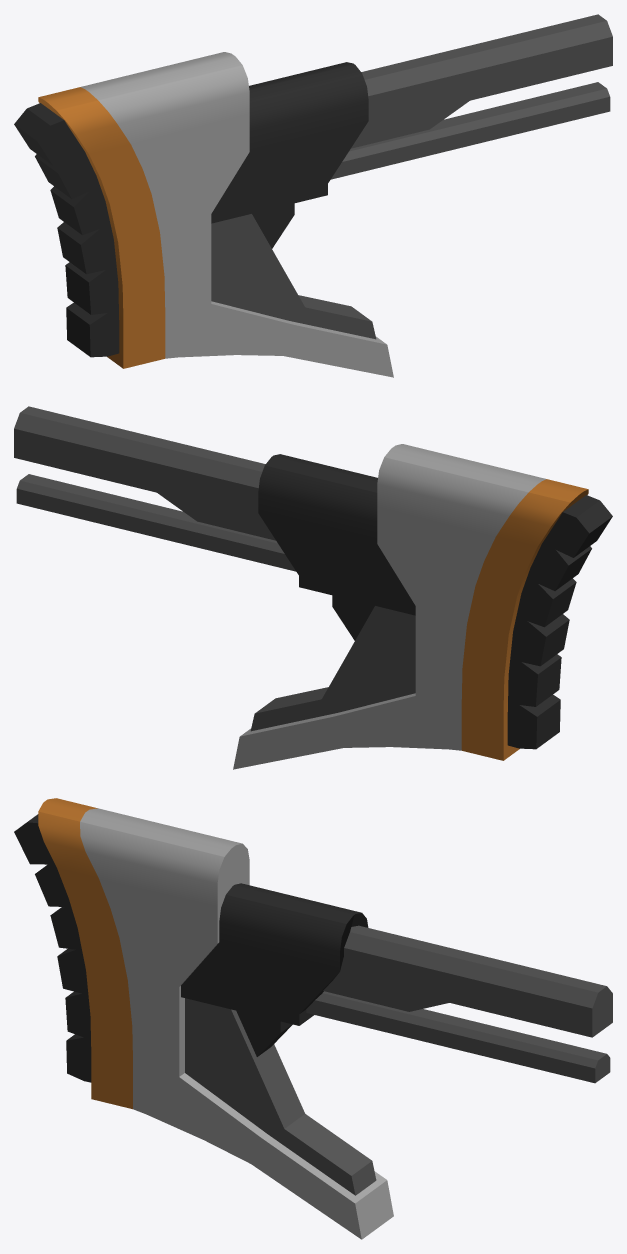
The model's file is Stock_AR_1.glb.
3 views of the same model, one above another, from view 1: azimuth 30°, elevation 25°; view 2: azimuth 150°, elevation 25°; view 3: azimuth 330°, elevation 25° (orthographic).
Visible parts, largest first — view 1: Stock_AR_1; view 2: Stock_AR_1; view 3: Stock_AR_1.
Boxes of the visible parts, left/top/right/bottom form: Stock_AR_1: left=14, top=14, right=612, bottom=377; Stock_AR_1: left=14, top=406, right=612, bottom=769; Stock_AR_1: left=14, top=798, right=612, bottom=1239.
Bounding box in the file's own units: 0.7725 × 0.4427 × 0.0746.
